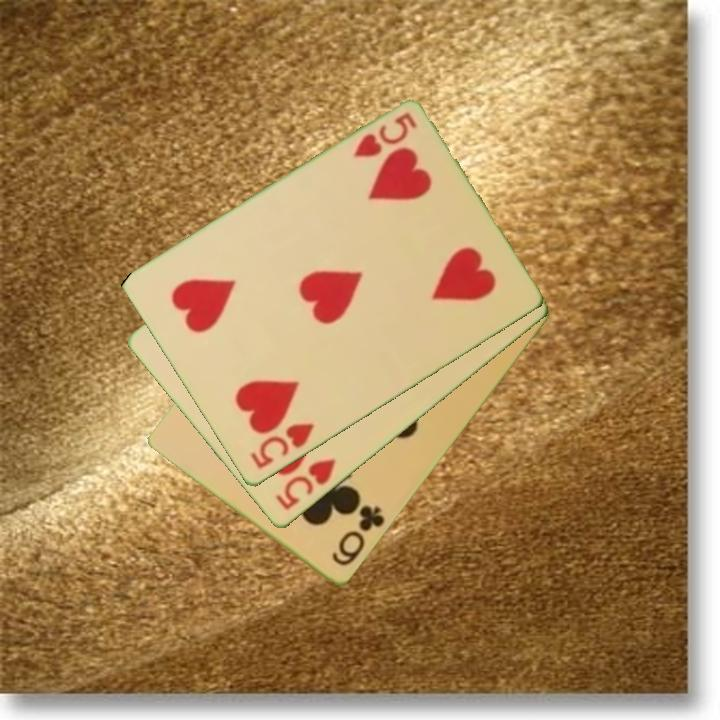5h: (271, 455, 339, 514), (247, 420, 317, 473), (350, 109, 420, 161)
6c: (328, 502, 388, 570)
